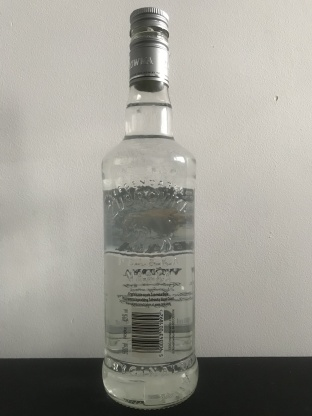nakretka: (128, 5, 170, 92)
